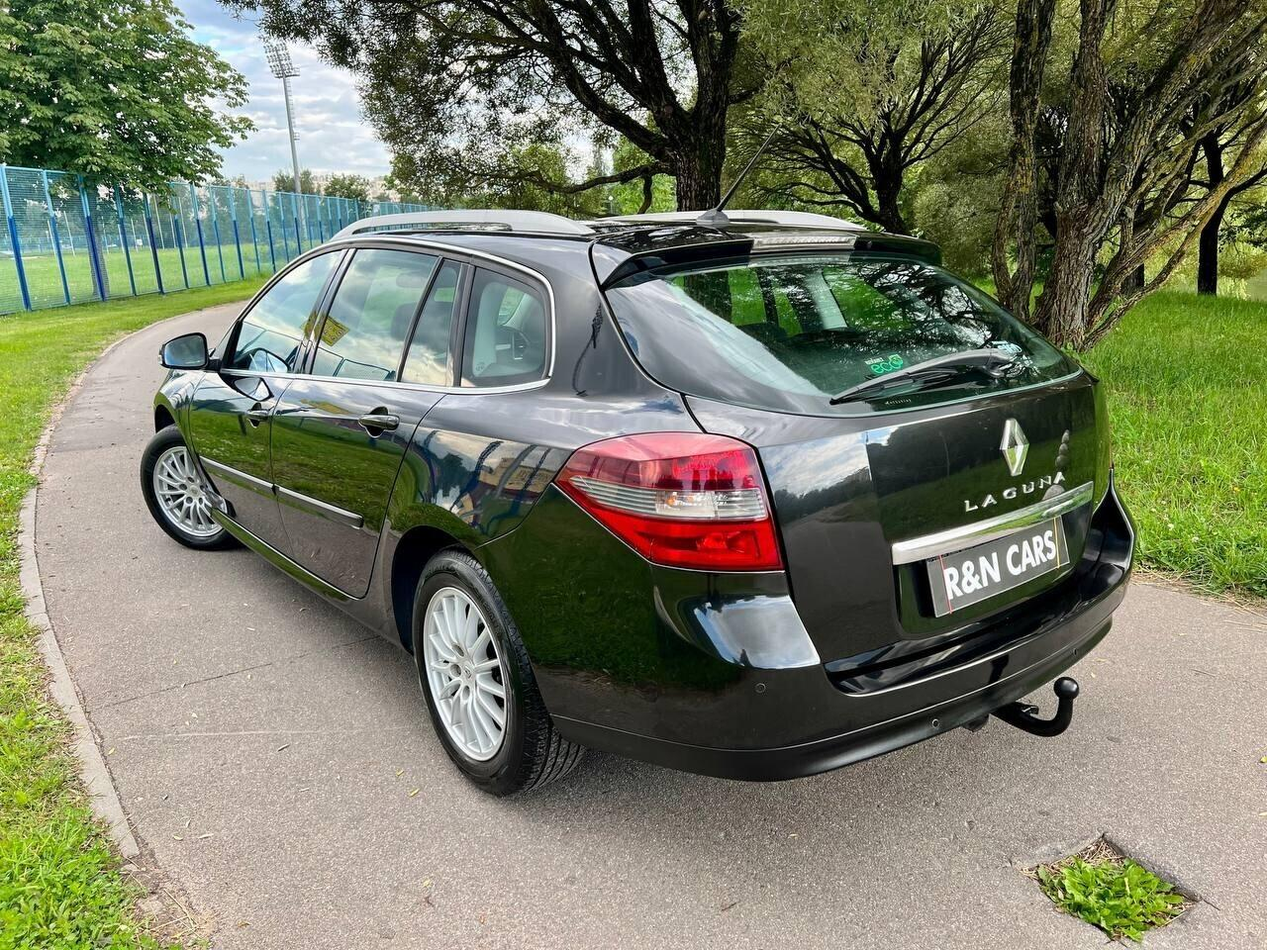Laguna_2010-2015: (141, 203, 1141, 815)
